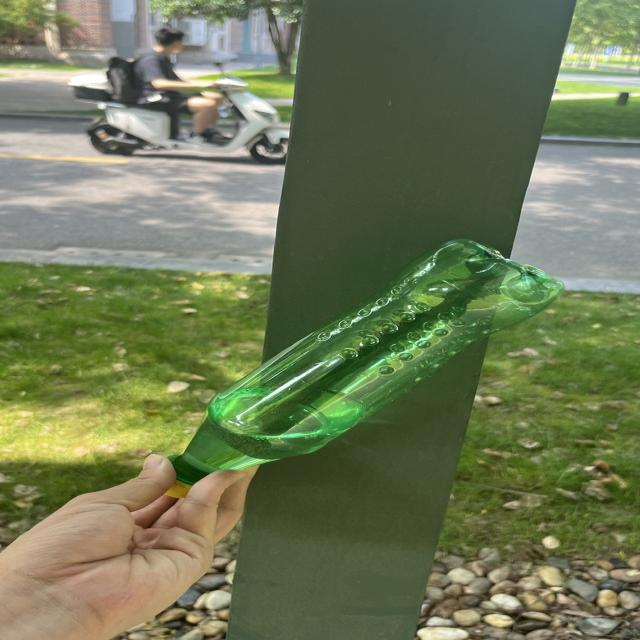low: (168, 239, 562, 496)
